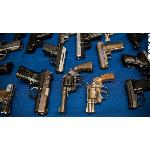Pistol: (57, 60, 92, 113), (17, 65, 53, 115), (85, 72, 115, 113), (124, 78, 150, 110), (42, 42, 68, 74), (96, 42, 124, 70), (74, 34, 104, 60), (25, 33, 53, 53), (1, 84, 18, 116), (128, 34, 146, 50), (58, 34, 74, 46)
